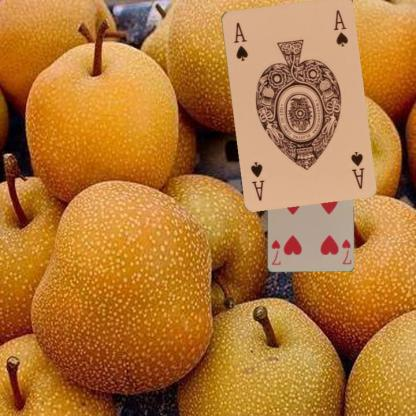7h: (339, 236, 352, 266)
As: (231, 19, 249, 62), (348, 148, 366, 190)
